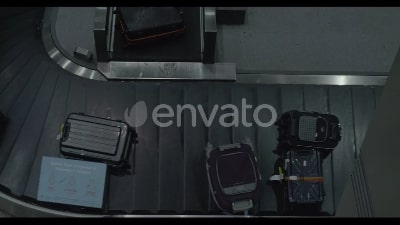baggage: (198, 137, 266, 216), (35, 155, 112, 211), (56, 113, 136, 166), (277, 144, 327, 213), (110, 7, 195, 47), (280, 110, 343, 149)
